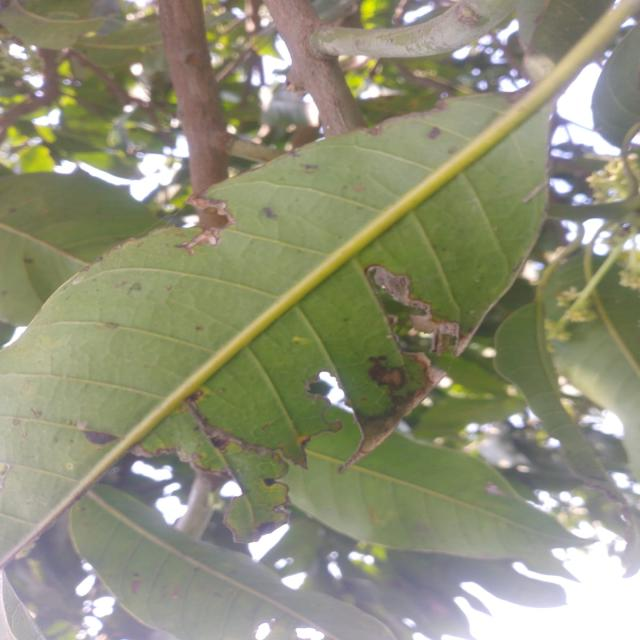Anthracnose: (80, 422, 119, 450), (261, 202, 279, 224), (425, 124, 447, 141)
Bacterial Cancer: (203, 405, 289, 535), (361, 262, 464, 354), (358, 354, 415, 426)
